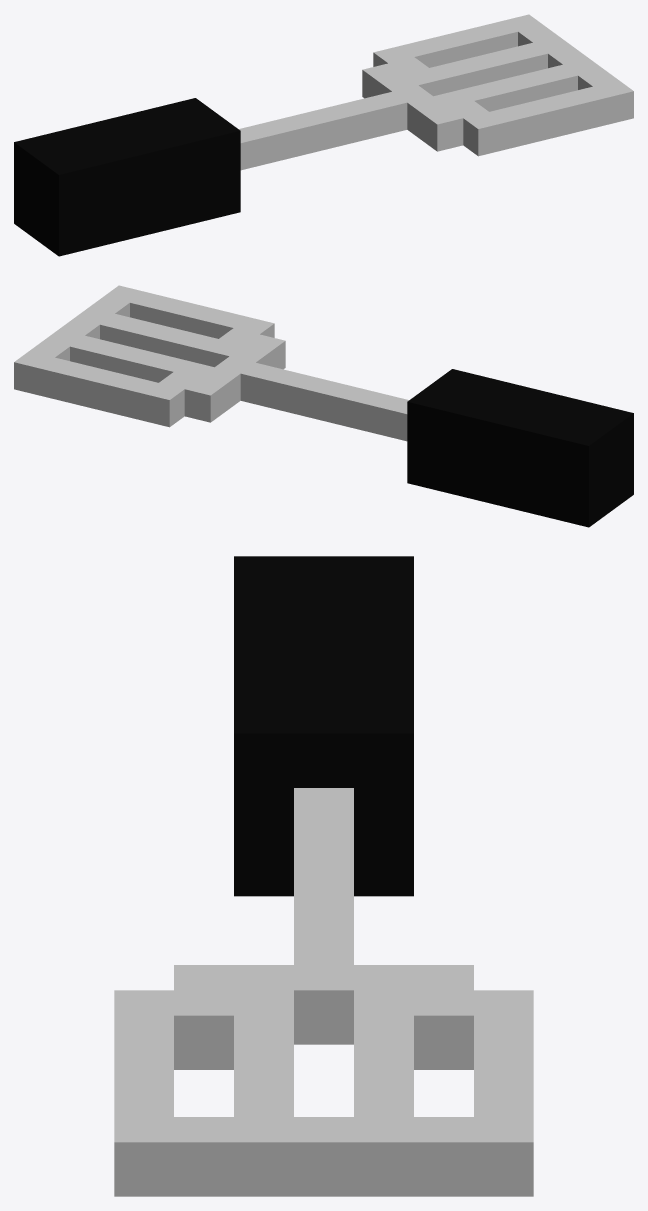
File: Espatula.obj
3 renders of one model, top to bottom at view 1: azimuth 30°, elevation 25°; view 2: azimuth 150°, elevation 25°; view 3: azimuth 270°, elevation 25°, orthographic. The views are drawn at different scales.
Bounding box in the file's own units: 2.1 × 0.3 × 0.7.
Materials: 1 (1 with a texture image).
